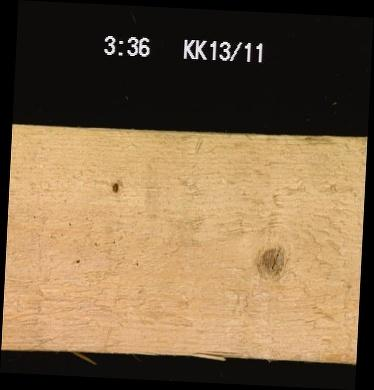small_knot: (108, 180, 118, 194)
sound_knot: (255, 246, 285, 279)
wave: (187, 343, 246, 357)
